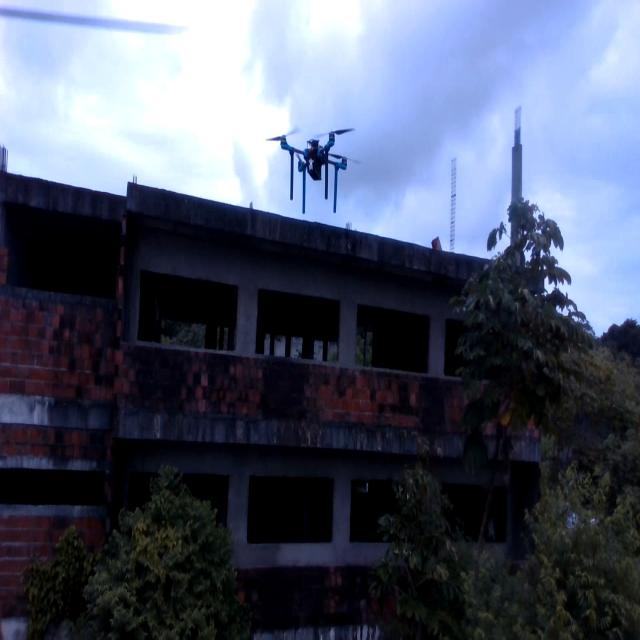-uav-: (258, 120, 372, 231)
